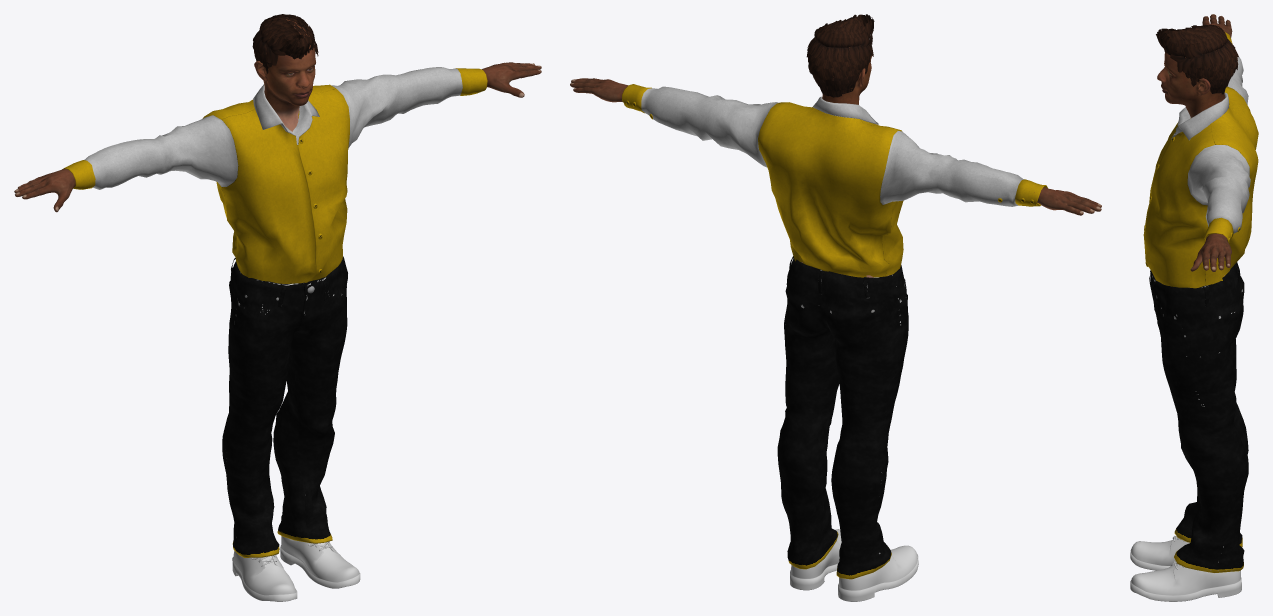
Rendered from male-dancer-yellow.obj.
3 views of the same model, side by side, from view 1: azimuth 30°, elevation 25°; view 2: azimuth 150°, elevation 25°; view 3: azimuth 270°, elevation 25° (orthographic).
Visible parts, largest first — view 1: Tops, Bottoms, Body, Shoes, Hair; view 2: Tops, Bottoms, Hair, Shoes, Body; view 3: Bottoms, Tops, Shoes, Hair, Body.
Part boxes in pixels (x1=…): Tops: x1=62, y1=67, x2=487, y2=283; Bottoms: x1=222, y1=256, x2=347, y2=557; Body: x1=14, y1=19, x2=541, y2=269; Shoes: x1=232, y1=536, x2=360, y2=601; Hair: x1=252, y1=14, x2=318, y2=73; Tops: x1=622, y1=84, x2=1047, y2=277; Bottoms: x1=777, y1=256, x2=908, y2=579; Hair: x1=806, y1=14, x2=874, y2=97; Shoes: x1=790, y1=529, x2=918, y2=601; Body: x1=570, y1=38, x2=1101, y2=277; Bottoms: x1=1149, y1=262, x2=1248, y2=572; Tops: x1=1143, y1=31, x2=1258, y2=288; Shoes: x1=1130, y1=535, x2=1241, y2=601; Hair: x1=1156, y1=24, x2=1238, y2=94; Body: x1=1157, y1=14, x2=1232, y2=275.
Bounding box in the file's own units: 180 × 181 × 38.1.
